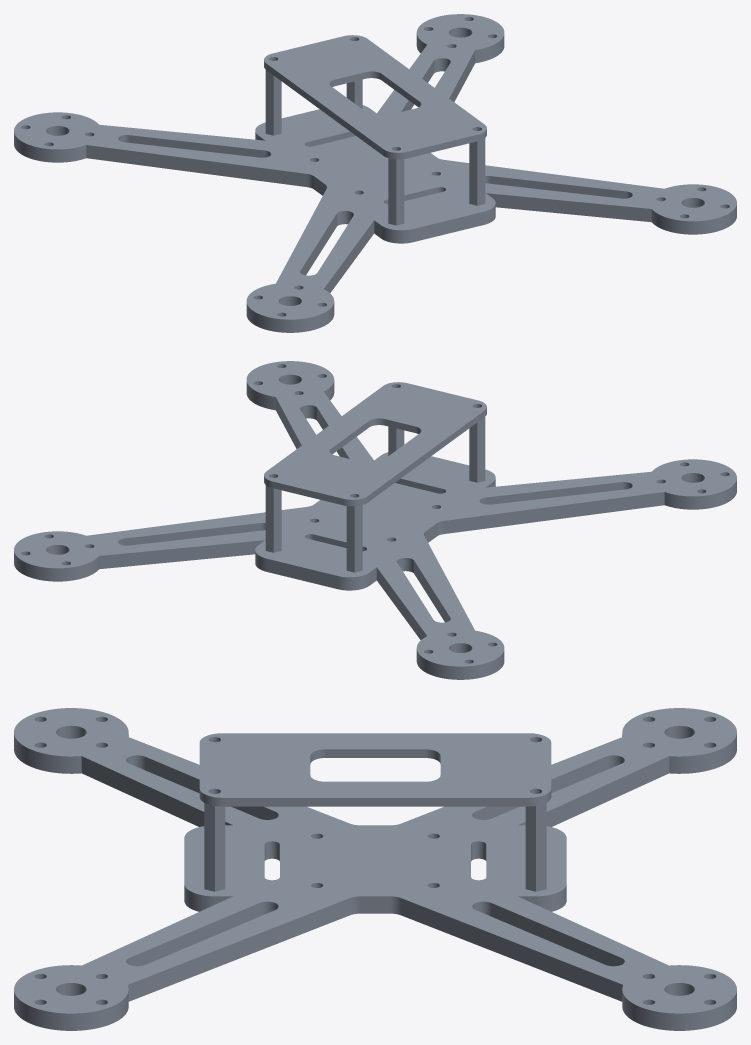
Rendered from step-5.glb.
3 views of the same model, one above another, from view 1: azimuth 30°, elevation 25°; view 2: azimuth 150°, elevation 25°; view 3: azimuth 270°, elevation 25° (orthographic). The views are drawn at different scales.
Parts seen in each view (by area): view 1: face_3462520fd5905184c287, face_2dc81ff9661facc9e8aa, face_1eca755a6b4b61118afb, face_26f04b5ba8c4c64ad49c, face_4f3c9539508e3cad428e, face_9bbac5e47ae6c59cab32, face_1652ee47c2ff05429bd9, face_9ae437875b5503ccbd1f, face_721785cbc0f2ac752816, face_30252e9dc4903821870c, face_992dee6a66a1ff1f4bf6, face_203e33fe93fe7c0330a2 (+7 smaller); view 2: face_3462520fd5905184c287, face_2dc81ff9661facc9e8aa, face_c32ef5f191d23a5f25ee, face_328ebcda5ebc6377554e, face_721785cbc0f2ac752816, face_a346b2020efb87b89e30, face_b1caf8c0f2c565efb912, face_0d98b20e4464964cb72a, face_4f3c9539508e3cad428e, face_7ceab784dc5cdd2fa632, face_992dee6a66a1ff1f4bf6, face_d9580afbd3a582c25e43 (+7 smaller); view 3: face_3462520fd5905184c287, face_2dc81ff9661facc9e8aa, face_104e0ba5e9348109e449, face_97546d7d8c22b6db1eca, face_ad58074464e4a1f33e2f, face_203e33fe93fe7c0330a2, face_d9580afbd3a582c25e43, face_9bbac5e47ae6c59cab32, face_a346b2020efb87b89e30, face_95f81838454b3e982345, face_c549f62dfaea31d1cc0a, face_4f3c9539508e3cad428e (+9 smaller).
Part boxes in pixels (left/top/right/bottom): face_3462520fd5905184c287: left=14, top=14, right=736, bottom=319; face_2dc81ff9661facc9e8aa: left=264, top=35, right=486, bottom=152; face_1eca755a6b4b61118afb: left=86, top=145, right=307, bottom=186; face_26f04b5ba8c4c64ad49c: left=486, top=193, right=651, bottom=222; face_4f3c9539508e3cad428e: left=246, top=302, right=334, bottom=332; face_9bbac5e47ae6c59cab32: left=651, top=204, right=736, bottom=234; face_1652ee47c2ff05429bd9: left=490, top=176, right=626, bottom=198; face_9ae437875b5503ccbd1f: left=129, top=135, right=264, bottom=157; face_721785cbc0f2ac752816: left=14, top=133, right=86, bottom=162; face_30252e9dc4903821870c: left=413, top=212, right=483, bottom=242; face_992dee6a66a1ff1f4bf6: left=266, top=64, right=383, bottom=155; face_203e33fe93fe7c0330a2: left=324, top=220, right=374, bottom=292; face_3462520fd5905184c287: left=14, top=361, right=736, bottom=666; face_2dc81ff9661facc9e8aa: left=264, top=382, right=486, bottom=499; face_c32ef5f191d23a5f25ee: left=443, top=492, right=664, bottom=533; face_328ebcda5ebc6377554e: left=99, top=540, right=264, bottom=569; face_721785cbc0f2ac752816: left=416, top=649, right=504, bottom=679; face_a346b2020efb87b89e30: left=14, top=551, right=99, bottom=581; face_b1caf8c0f2c565efb912: left=124, top=523, right=260, bottom=545; face_0d98b20e4464964cb72a: left=486, top=482, right=621, bottom=504; face_4f3c9539508e3cad428e: left=664, top=480, right=736, bottom=509; face_7ceab784dc5cdd2fa632: left=267, top=559, right=337, bottom=589; face_992dee6a66a1ff1f4bf6: left=367, top=411, right=484, bottom=502; face_d9580afbd3a582c25e43: left=376, top=567, right=426, bottom=639; face_3462520fd5905184c287: left=14, top=708, right=736, bottom=1013; face_2dc81ff9661facc9e8aa: left=199, top=733, right=551, bottom=797; face_104e0ba5e9348109e449: left=128, top=898, right=349, bottom=1001; face_97546d7d8c22b6db1eca: left=401, top=898, right=622, bottom=1001; face_ad58074464e4a1f33e2f: left=222, top=798, right=528, bottom=806; face_203e33fe93fe7c0330a2: left=81, top=756, right=232, bottom=826; face_d9580afbd3a582c25e43: left=518, top=756, right=669, bottom=826; face_9bbac5e47ae6c59cab32: left=14, top=991, right=128, bottom=1030; face_a346b2020efb87b89e30: left=622, top=991, right=736, bottom=1030; face_95f81838454b3e982345: left=129, top=903, right=259, bottom=966; face_c549f62dfaea31d1cc0a: left=491, top=903, right=621, bottom=966; face_4f3c9539508e3cad428e: left=14, top=734, right=128, bottom=773.
Bounding box in the file's own units: 0.1891 × 0.0325 × 0.1891.
